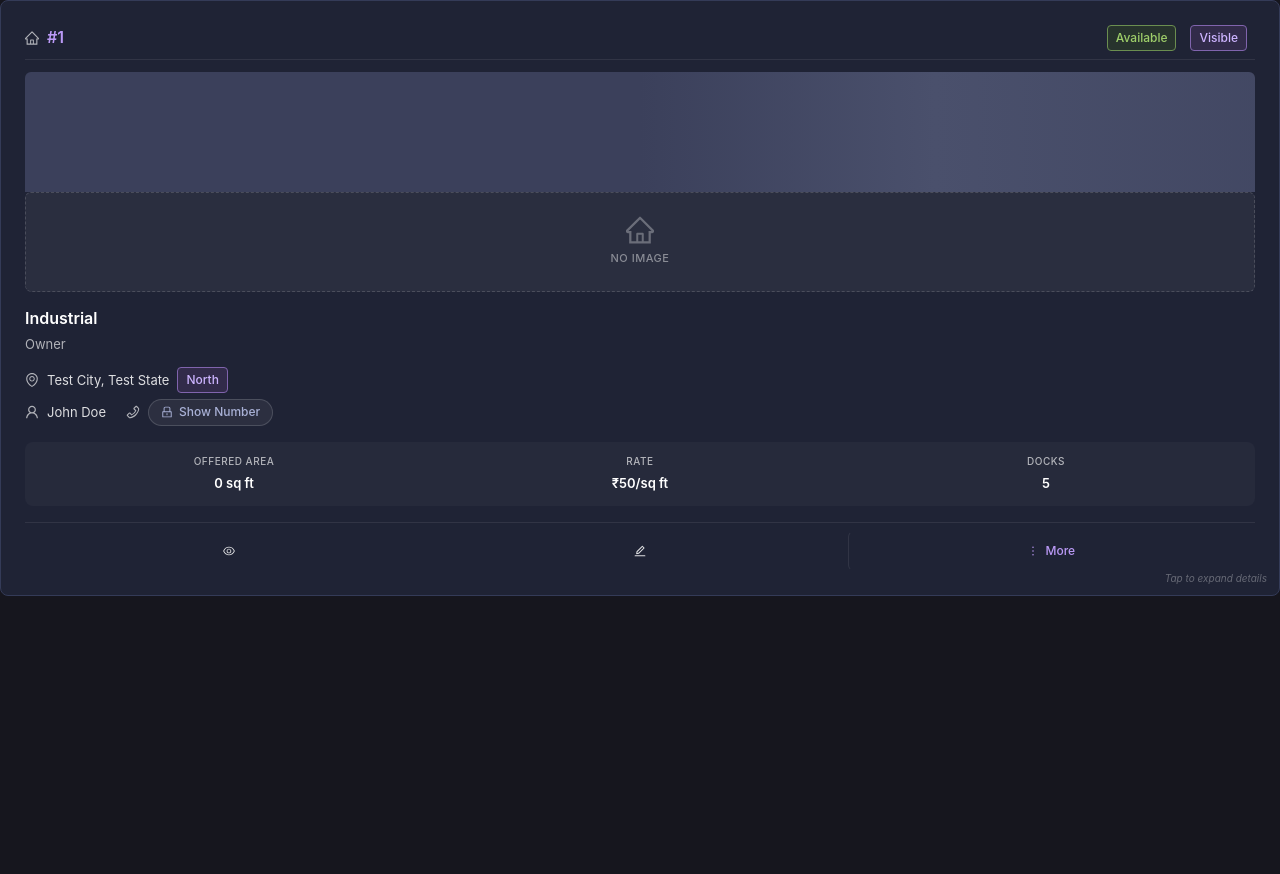
Test case: expanded warehouse area › does not show a legacy area when current areas are missing
Click the button "More".
click(1051, 551)  # box x1=848 y1=531 x2=1255 y2=571
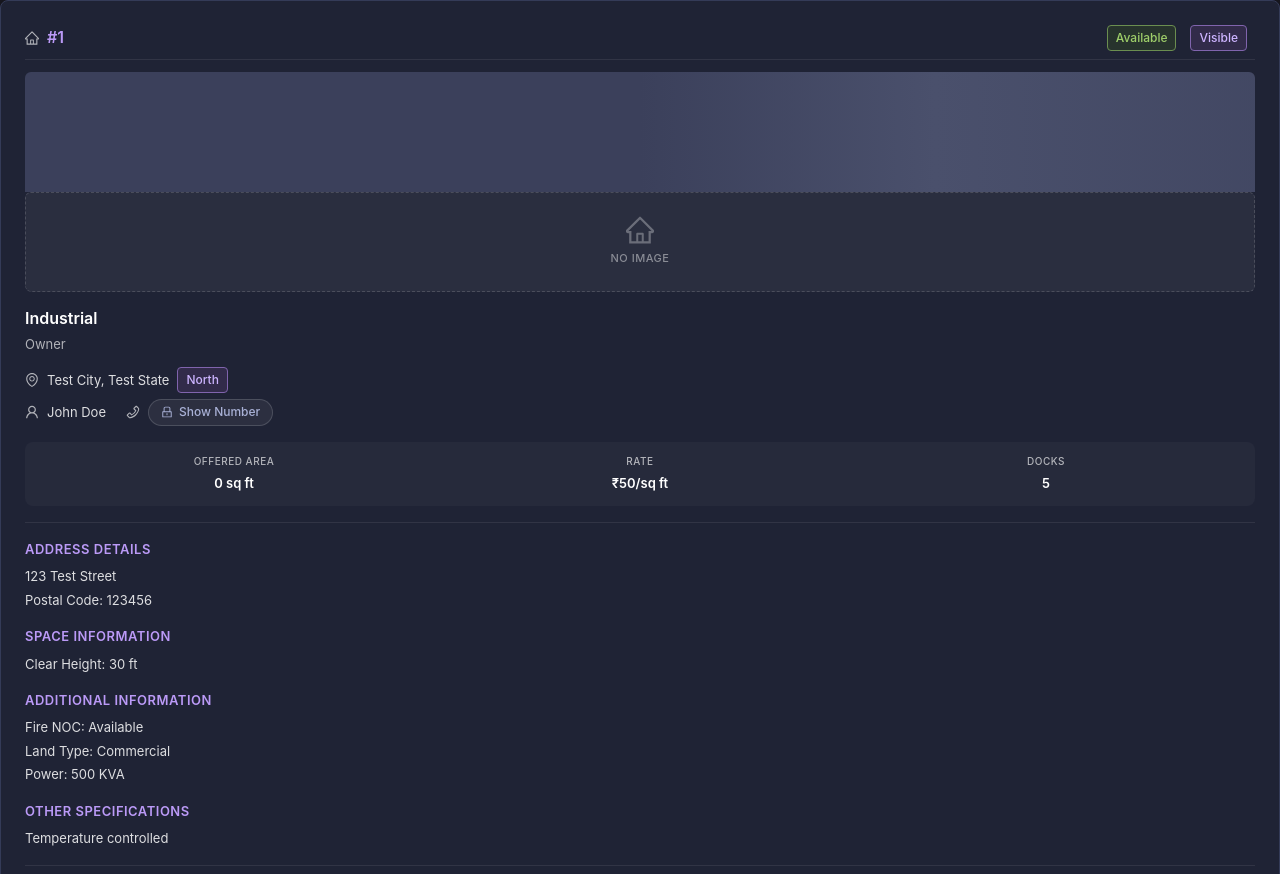
expect the text "Clear Height: 30 ft" is shown: met, box x1=25 y1=656 x2=137 y2=672
